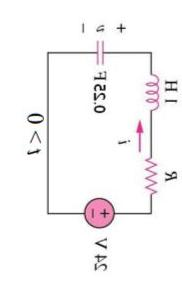inductor: (138, 67, 162, 120)
